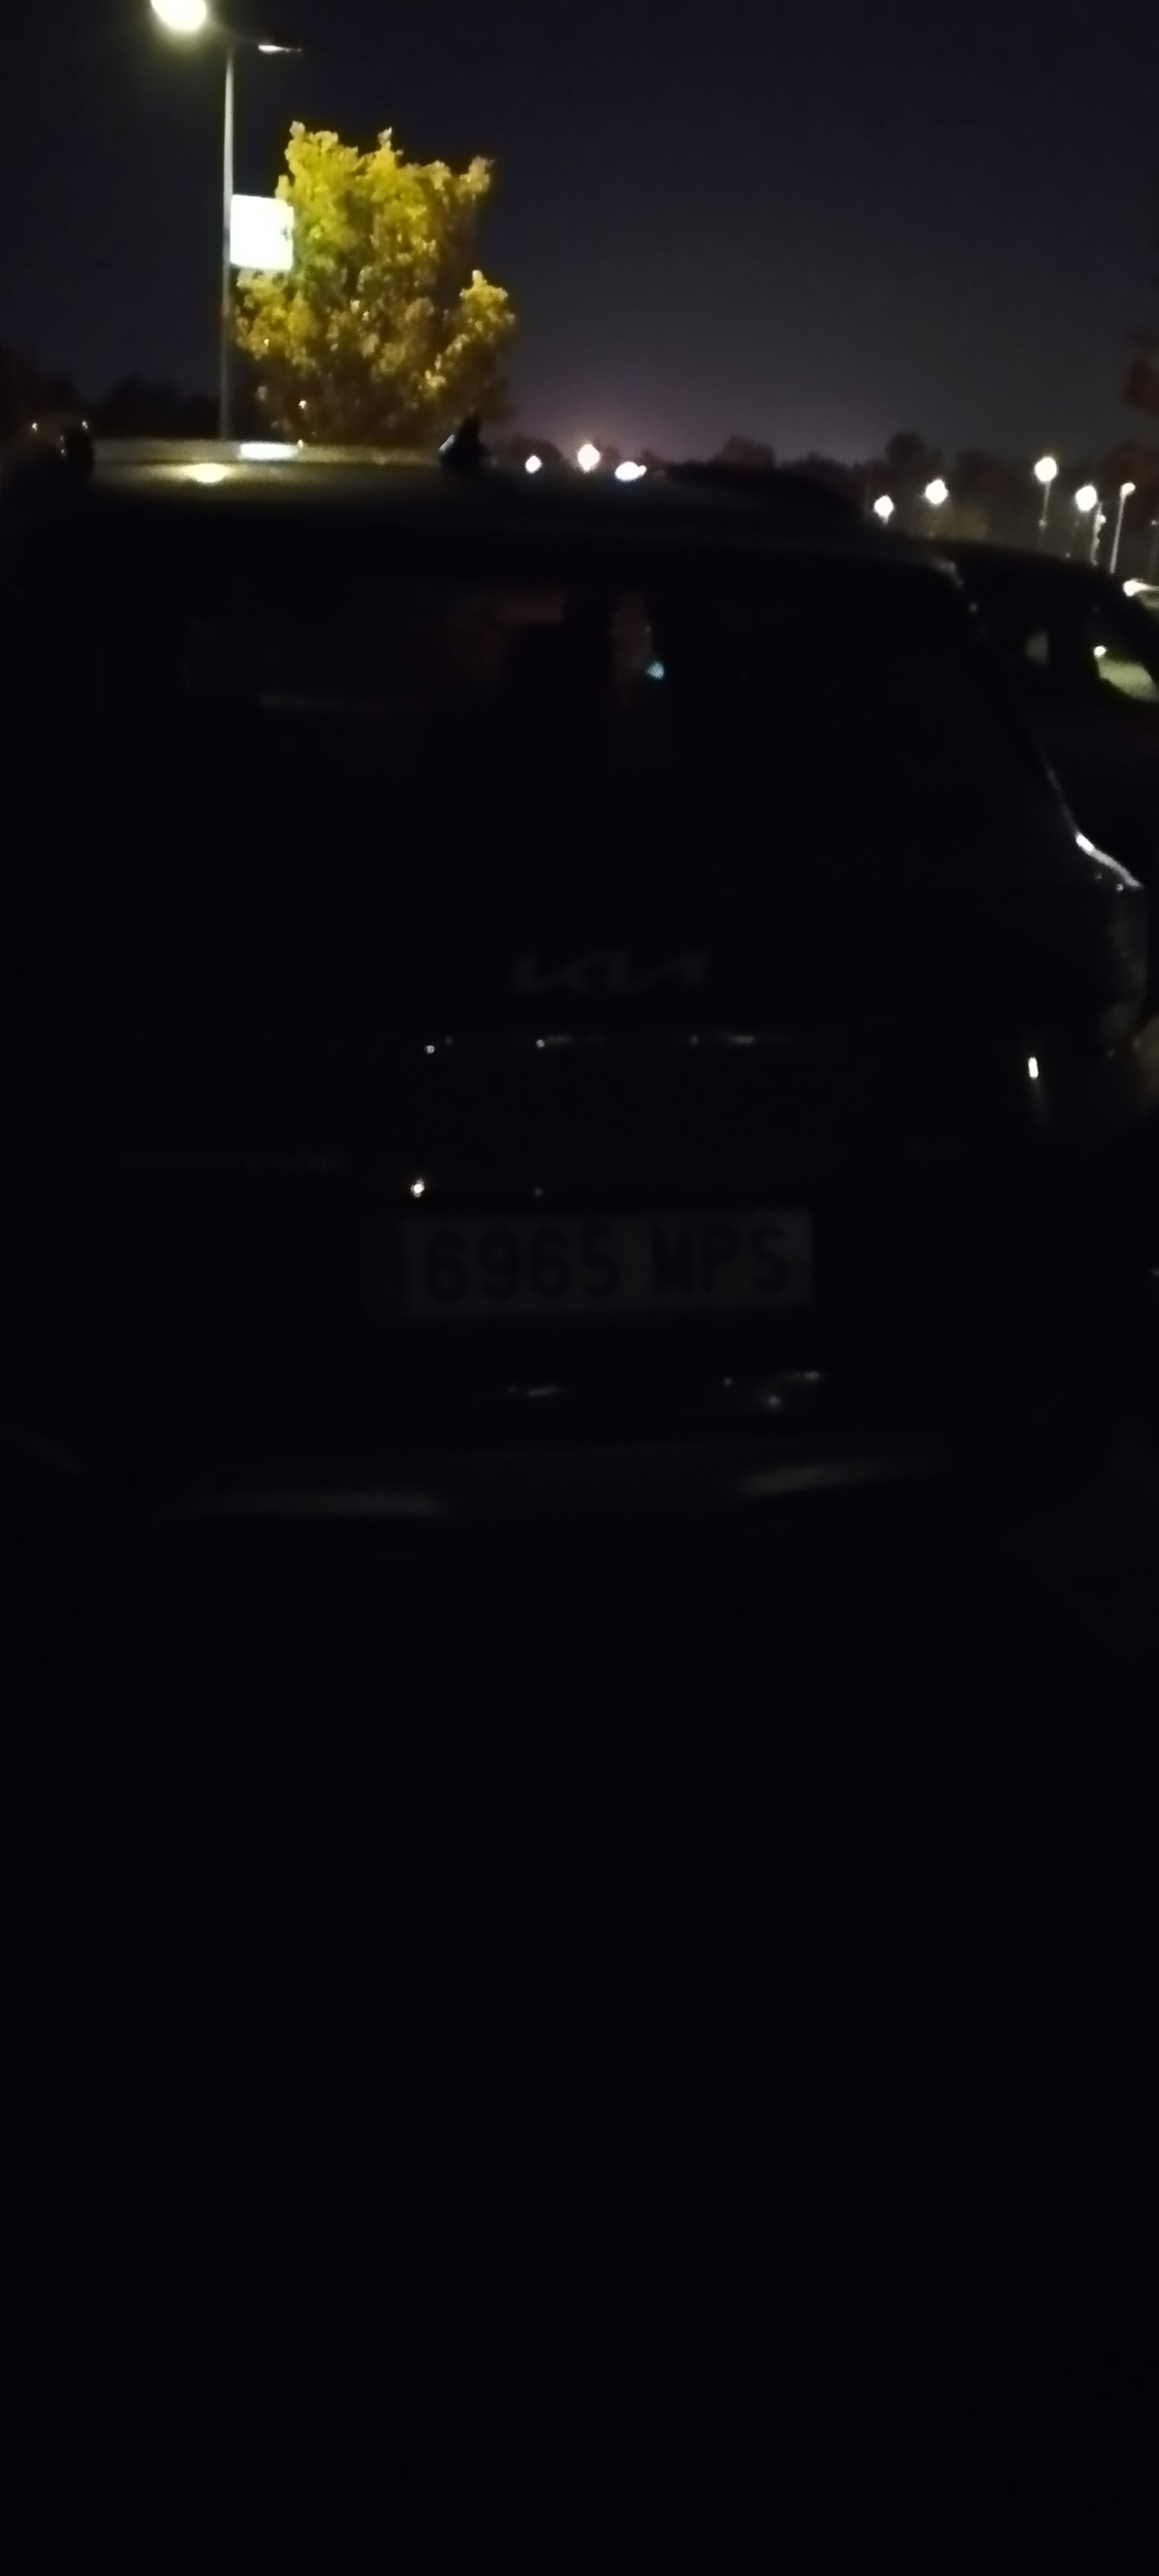Plate: (369, 1214, 822, 1313)
